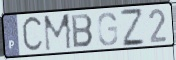2: (148, 8, 168, 45)
B: (71, 13, 95, 50)
C: (20, 13, 45, 55)
G: (96, 11, 120, 48)
M: (42, 12, 74, 54)
Z: (119, 8, 147, 49)
